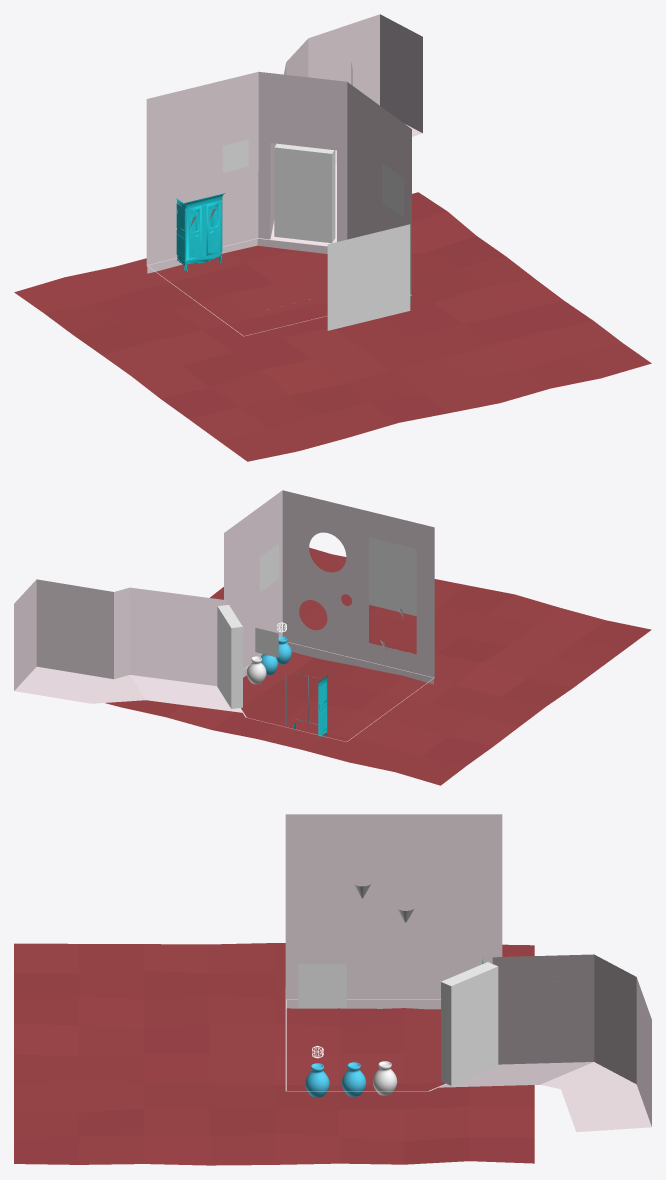
Rendered from room_00.glb.
The picture shows the model from 3 angles, top to bottom: view 1: azimuth 30°, elevation 25°; view 2: azimuth 150°, elevation 25°; view 3: azimuth 270°, elevation 25°; orthographic projection. The views are drawn at different scales.
Visible parts, largest first — view 1: floor, Room, Frame, LinkA, Wardrober.004, Frame.001, Frame.002; view 2: Room, floor, Frame, LinkA, Wardrober.004, Frame.001, Frame.002; view 3: floor, Room, LinkA, Frame.001, Vase.001, LinkB, Vase.
Boxes of the visible parts, x1,y1,x2,y2 form: floor: (14, 192, 651, 461); Room: (146, 14, 422, 336); Frame: (327, 224, 410, 330); LinkA: (274, 143, 335, 243); Wardrober.004: (175, 193, 225, 272); Frame.001: (382, 163, 403, 217); Frame.002: (222, 139, 248, 172); Room: (14, 490, 434, 741); floor: (105, 547, 651, 785); Frame: (369, 537, 416, 616); LinkA: (217, 605, 242, 708); Wardrober.004: (285, 673, 327, 737); Frame.001: (259, 543, 279, 592); Frame.002: (255, 627, 278, 657); floor: (14, 943, 534, 1165); Room: (285, 814, 651, 1131); LinkA: (441, 962, 498, 1085); Frame.001: (298, 964, 346, 1008); Vase.001: (305, 1063, 329, 1097); LinkB: (373, 1061, 397, 1095); Vase: (342, 1062, 366, 1096).
Size of the model in its own units: 32.82 by 13.07 by 38.03.
